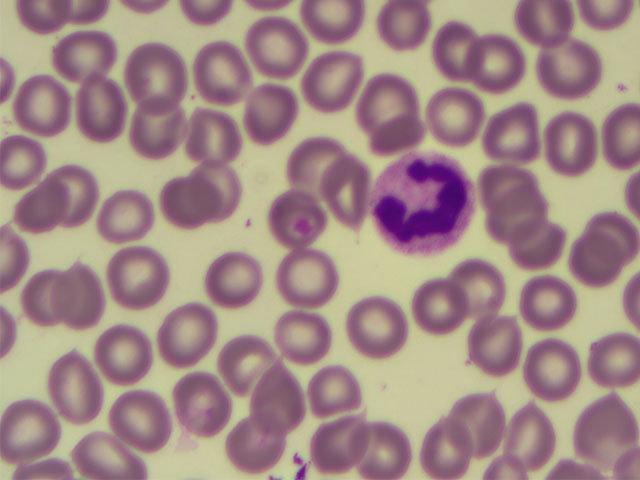RBC: (70, 422, 137, 480), (338, 422, 405, 480), (412, 422, 479, 480), (50, 30, 117, 87), (14, 78, 81, 135), (80, 80, 147, 137), (118, 43, 185, 100), (124, 102, 191, 159), (56, 165, 123, 222), (9, 183, 76, 240), (98, 186, 165, 243), (153, 172, 220, 229), (176, 154, 243, 211), (184, 112, 251, 169), (241, 85, 308, 142), (191, 46, 258, 103), (251, 20, 318, 77), (297, 61, 364, 118), (346, 67, 413, 124), (371, 104, 438, 161), (416, 82, 483, 139), (471, 103, 538, 160), (538, 115, 605, 172), (538, 45, 605, 102), (470, 33, 537, 90), (426, 20, 493, 77), (377, 3, 444, 60), (479, 152, 546, 209), (488, 191, 555, 248), (506, 212, 573, 269), (555, 237, 622, 294), (573, 208, 640, 265), (522, 275, 589, 332), (461, 310, 528, 367), (437, 261, 504, 318), (409, 274, 476, 331), (347, 296, 414, 353), (289, 251, 356, 308), (259, 190, 326, 247), (280, 133, 347, 190), (319, 164, 386, 221), (214, 248, 281, 305), (161, 302, 228, 359), (107, 245, 174, 302), (72, 265, 139, 322), (36, 271, 103, 328), (82, 324, 149, 381), (56, 352, 123, 409), (14, 400, 81, 457), (104, 391, 171, 448), (158, 380, 225, 437), (214, 334, 281, 391), (250, 361, 317, 418), (225, 411, 292, 468), (303, 360, 370, 417), (307, 418, 374, 475), (436, 390, 503, 447), (495, 406, 562, 463), (573, 404, 640, 461), (520, 338, 587, 395), (573, 336, 640, 393), (276, 306, 343, 363), (1, 133, 67, 190), (305, 1, 372, 57), (508, 1, 575, 57)
WBC: (372, 148, 471, 253)
